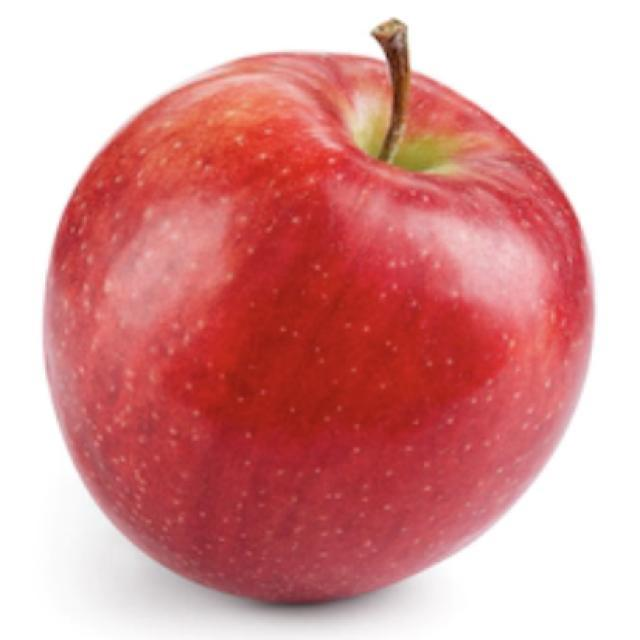Apple: (41, 17, 596, 606)
